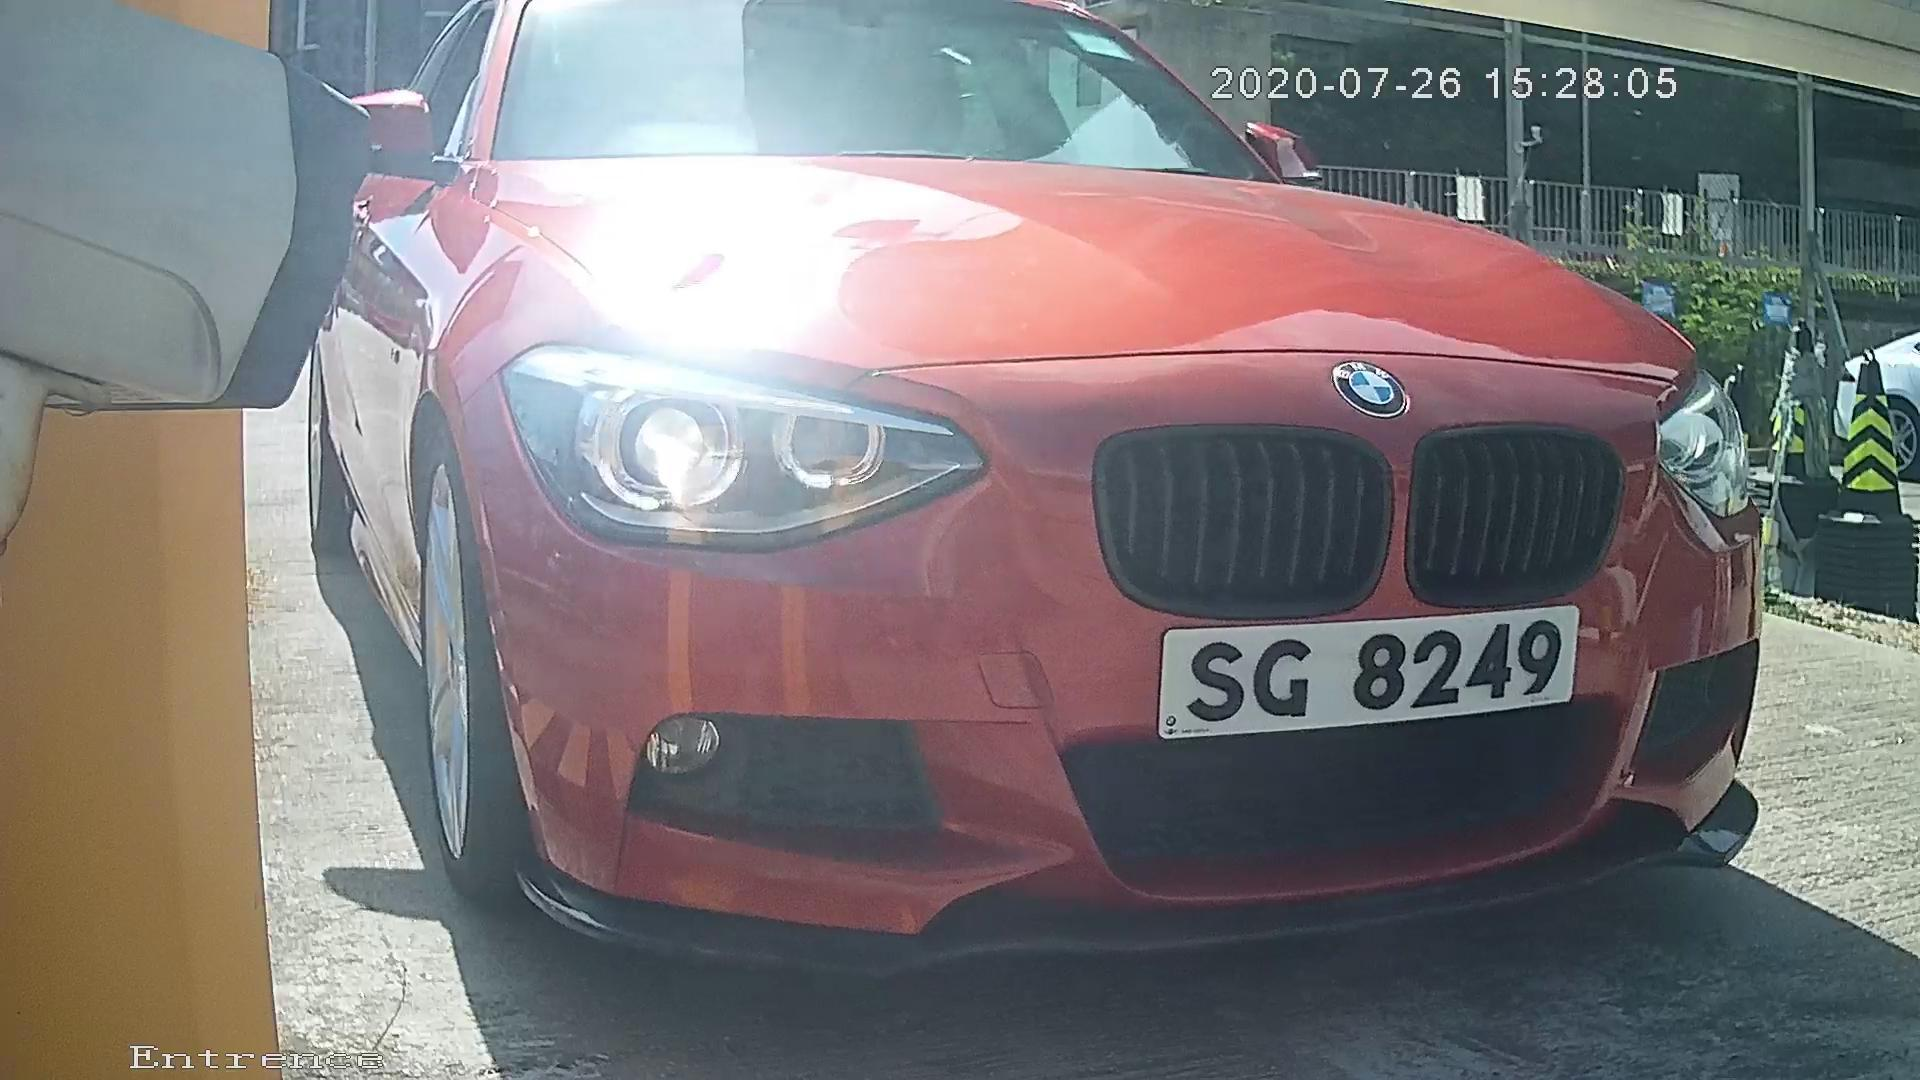privatecar: (369, 34, 1758, 1018)
